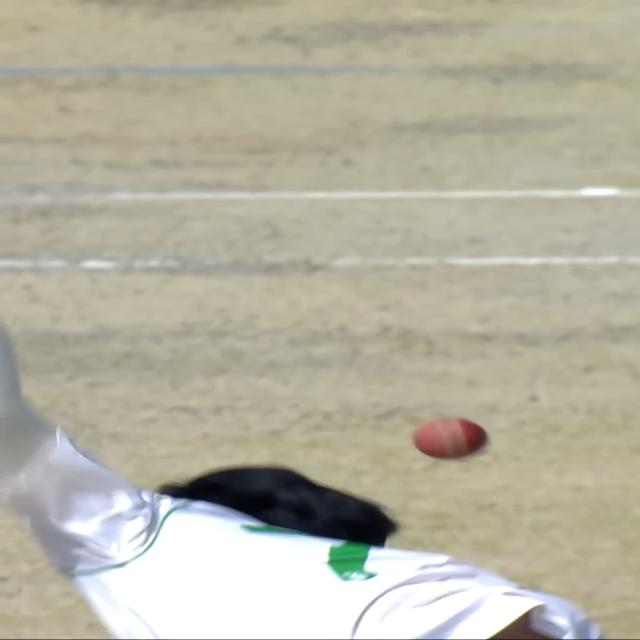Cricket ball: (409, 414, 493, 464)
